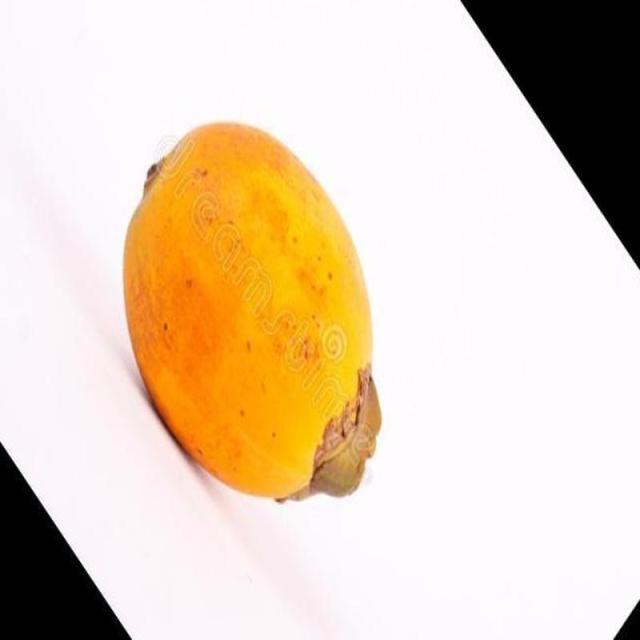good: (122, 122, 382, 504)
